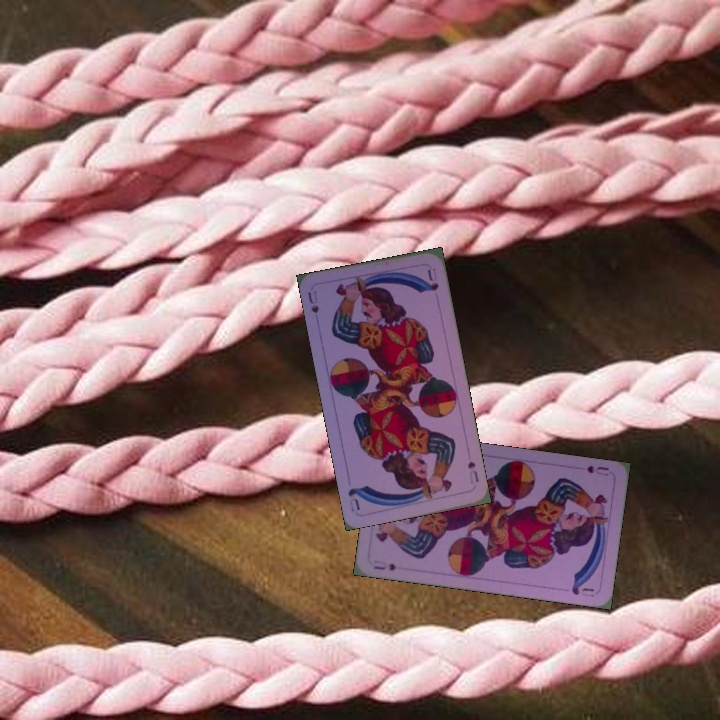SU: (303, 286, 322, 316), (463, 457, 481, 485), (369, 556, 398, 573), (583, 462, 611, 479)
